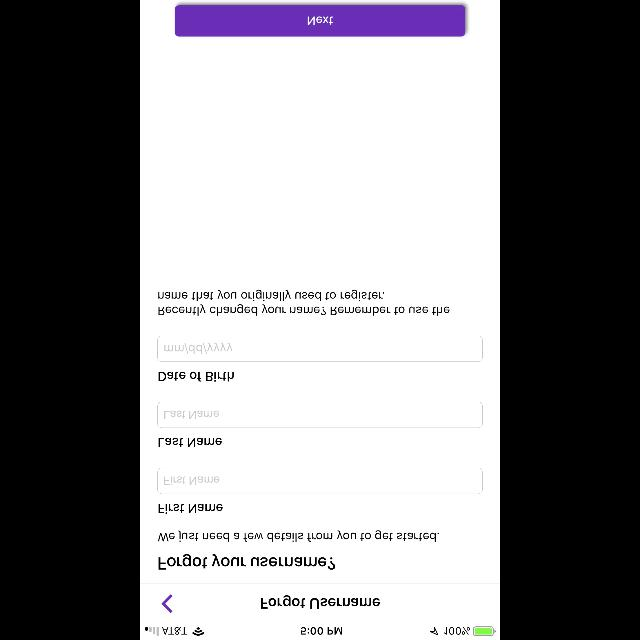icon: (162, 594, 172, 612)
input: (158, 336, 482, 362), (158, 402, 482, 428), (158, 468, 482, 494)
text: (158, 289, 450, 315), (158, 530, 440, 542), (158, 554, 336, 570), (262, 596, 381, 608), (165, 342, 233, 353), (160, 372, 234, 382), (159, 504, 223, 514), (158, 438, 222, 447), (164, 476, 220, 484), (165, 410, 219, 418)
textbutton: (175, 6, 465, 36)
uppertaskbar: (140, 626, 500, 640)
